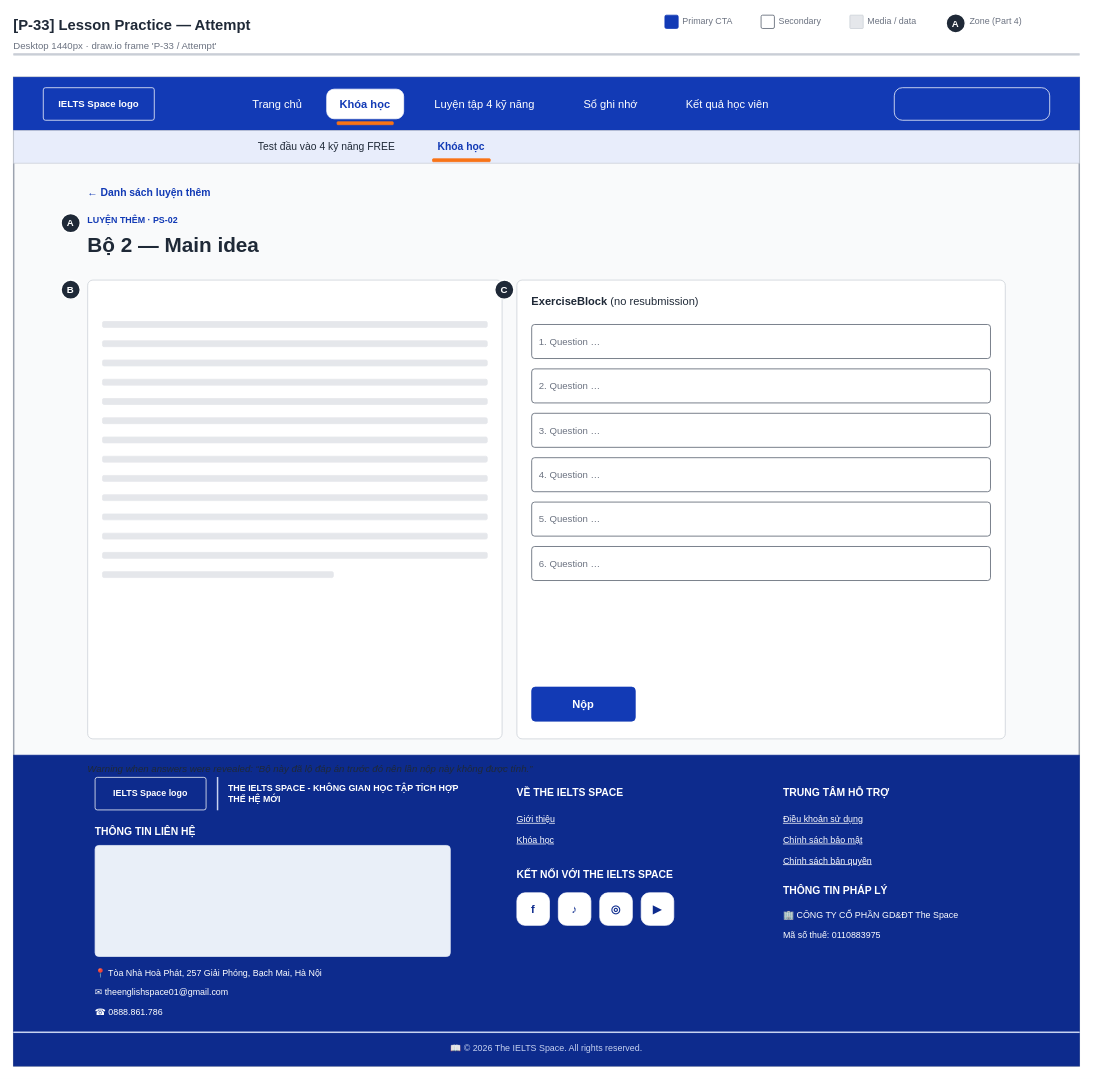
Some shapes in this 1093 by 1079 pixel diagram are drawn without their labels. Each missing label, with the centre of its shape:
Practice audio / PassageBlock: the point at 294,509
◯ Học viên · 30 Points ▾: the point at 972,103
📍 The IELTS Space Mở trong Maps ↗: the point at 272,900
